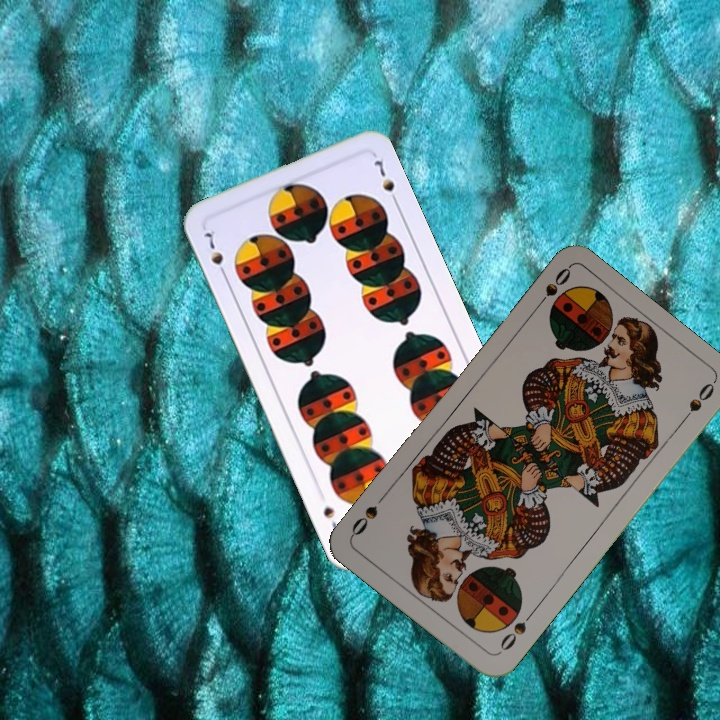S7: (201, 226, 230, 281)
SO: (530, 263, 574, 314), (496, 607, 537, 654)
